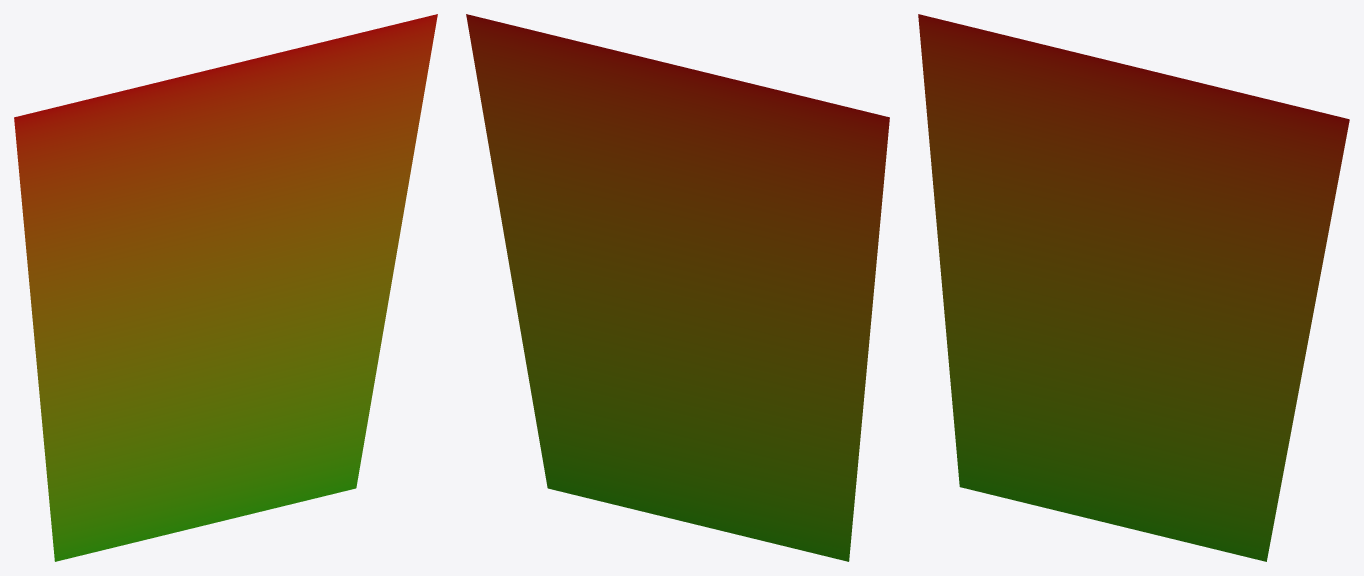
Rendered from Spotted Laurel_LOD3_Var5_sfDik.fbx.
The picture shows the model from 3 angles, left to right: view 1: azimuth 30°, elevation 25°; view 2: azimuth 150°, elevation 25°; view 3: azimuth 330°, elevation 25°; orthographic projection.
Visible parts, largest first — view 1: _b360_Var5_LOD3; view 2: _b360_Var5_LOD3; view 3: _b360_Var5_LOD3.
Part boxes in pixels (bbox=[...]): _b360_Var5_LOD3: bbox=[14, 14, 437, 561]; _b360_Var5_LOD3: bbox=[466, 14, 889, 561]; _b360_Var5_LOD3: bbox=[918, 14, 1349, 561].
Bounding box in the file's own units: 25.65 × 26.28 × 8.94e-07.
